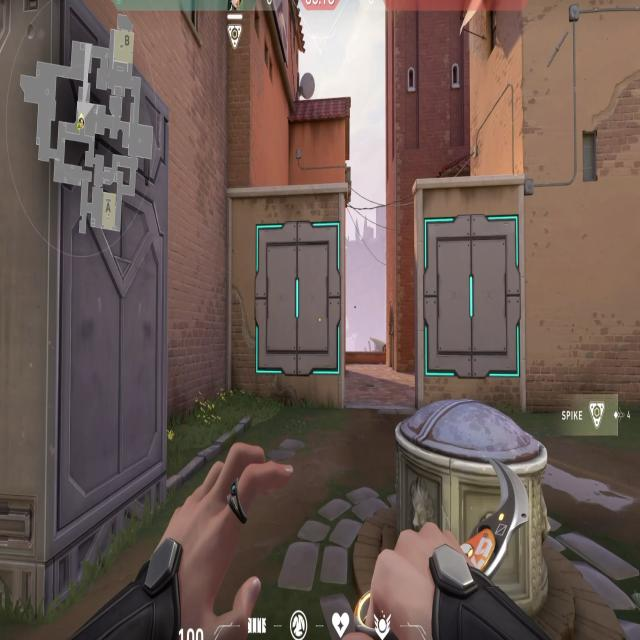Mid_Wall: (418, 204, 525, 396), (250, 207, 344, 400)
